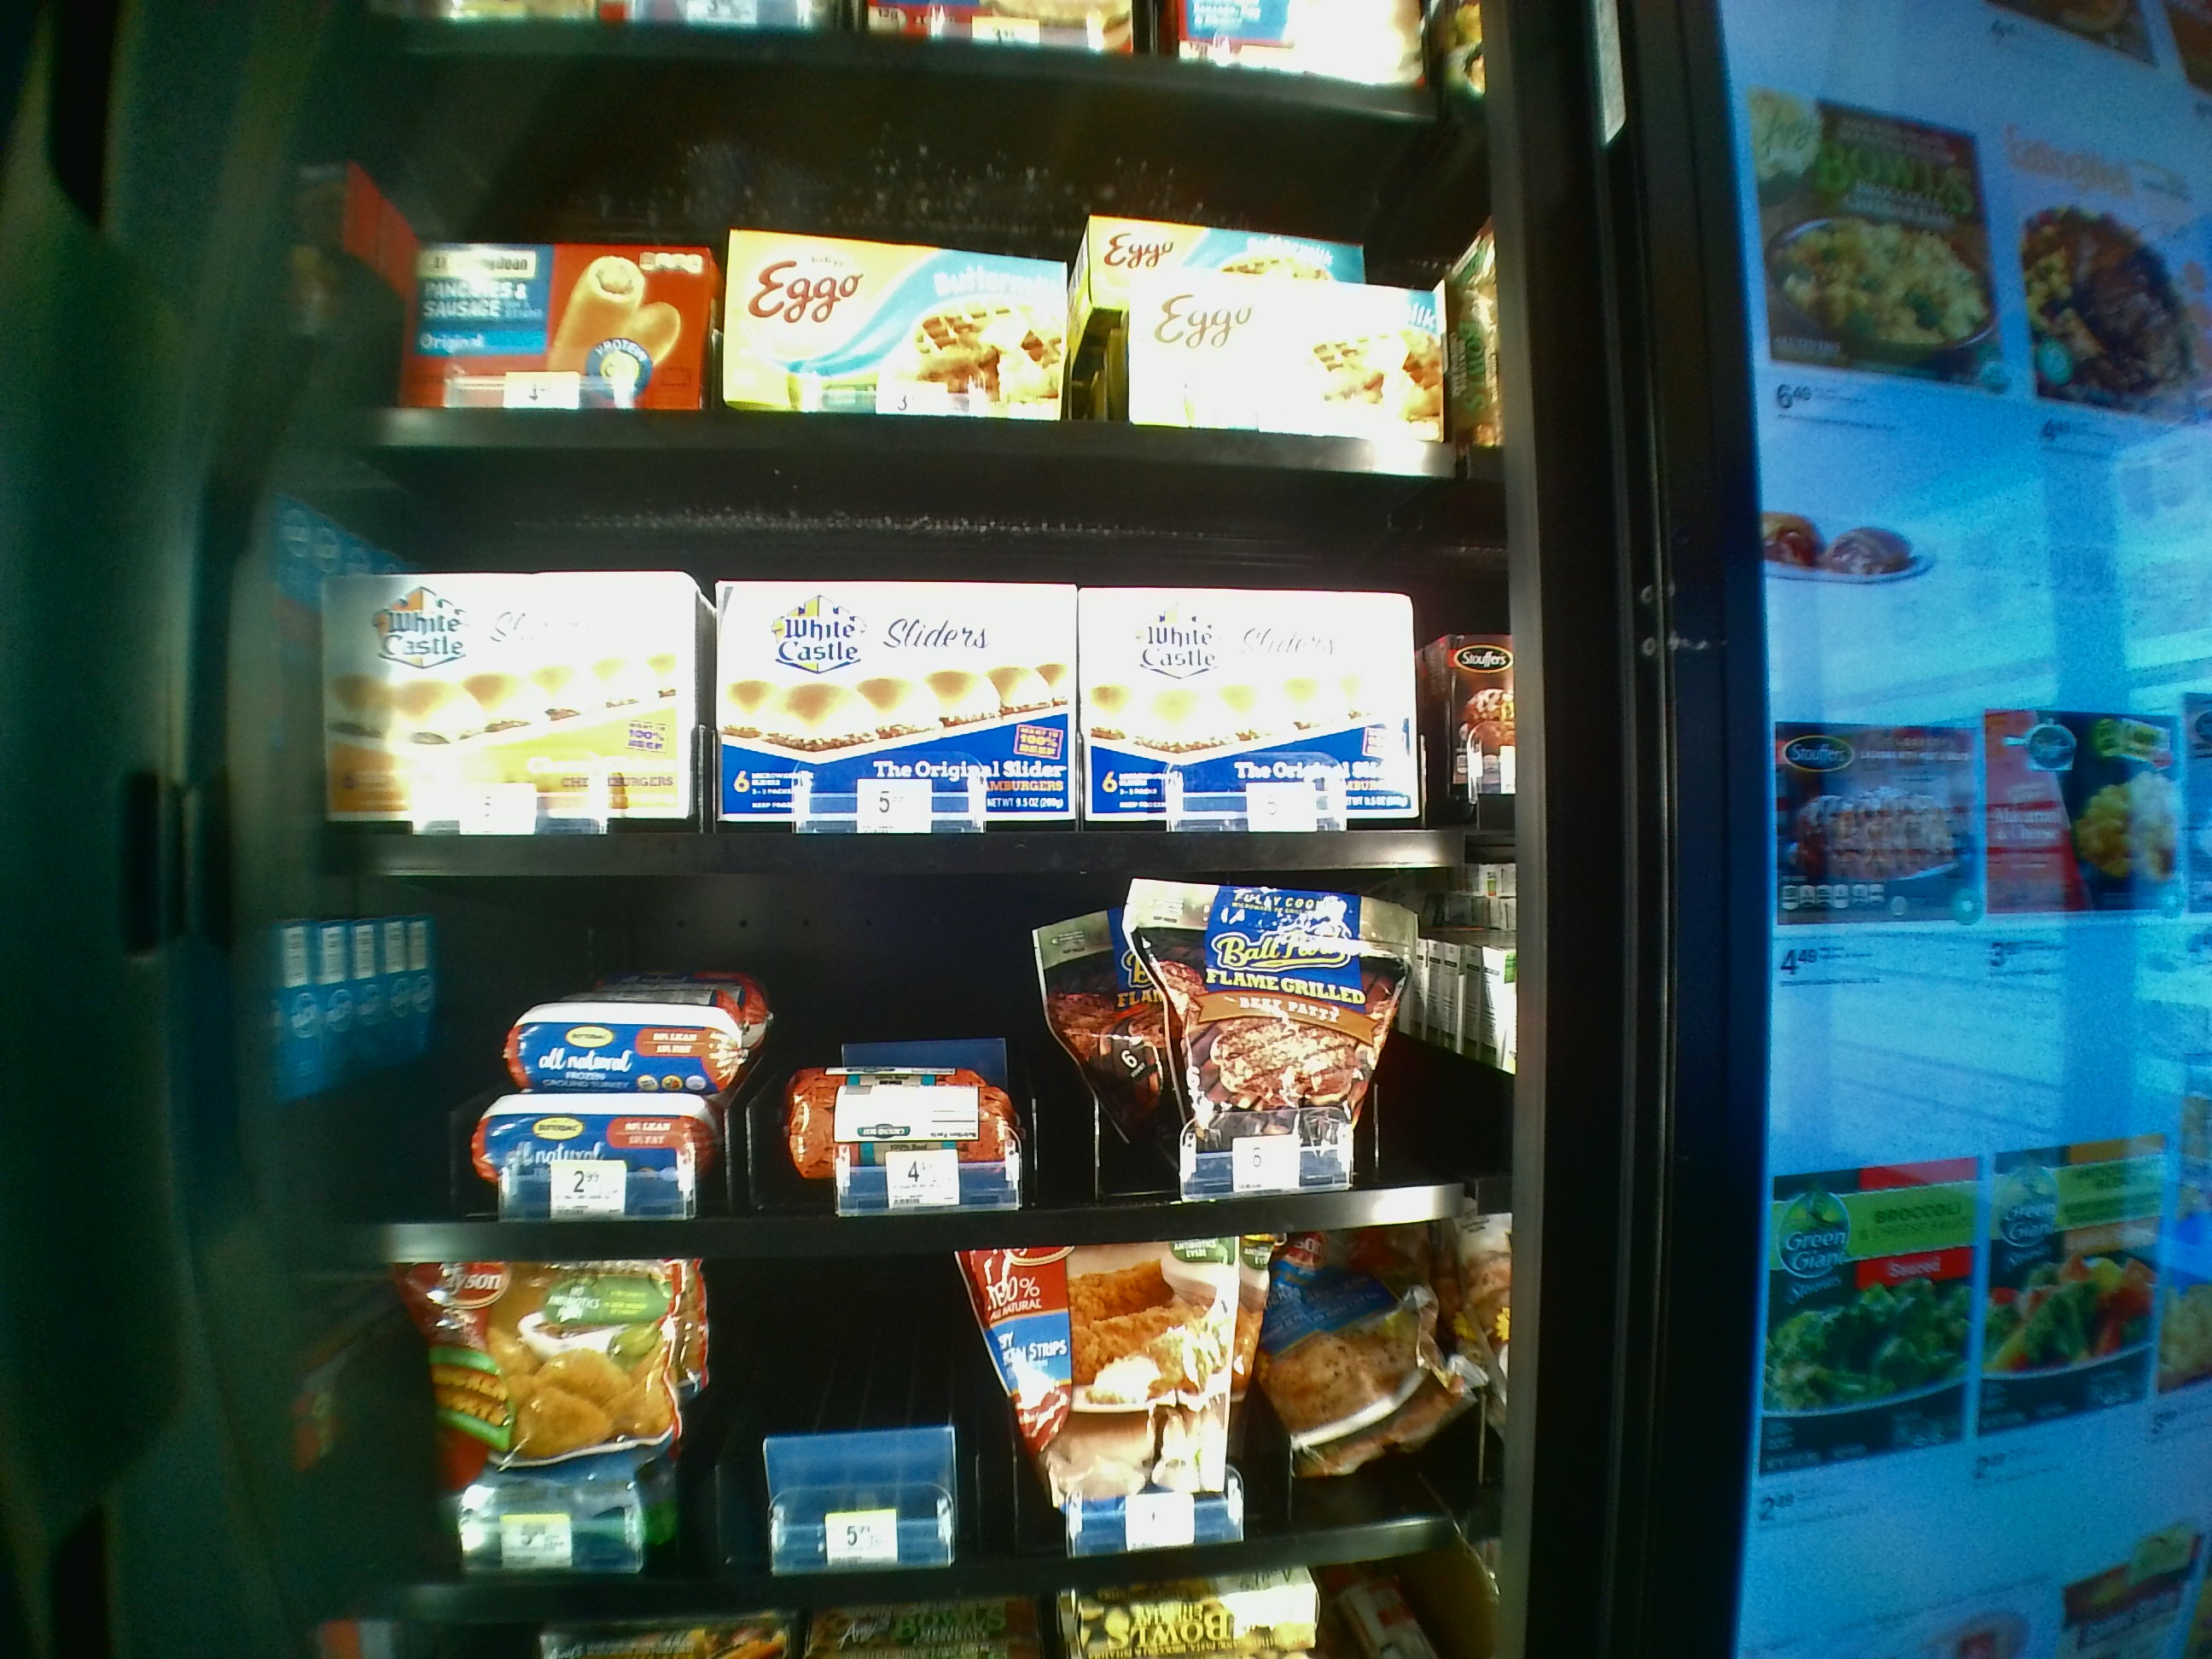shelf: (296, 453, 1503, 871), (296, 878, 1514, 1263)
